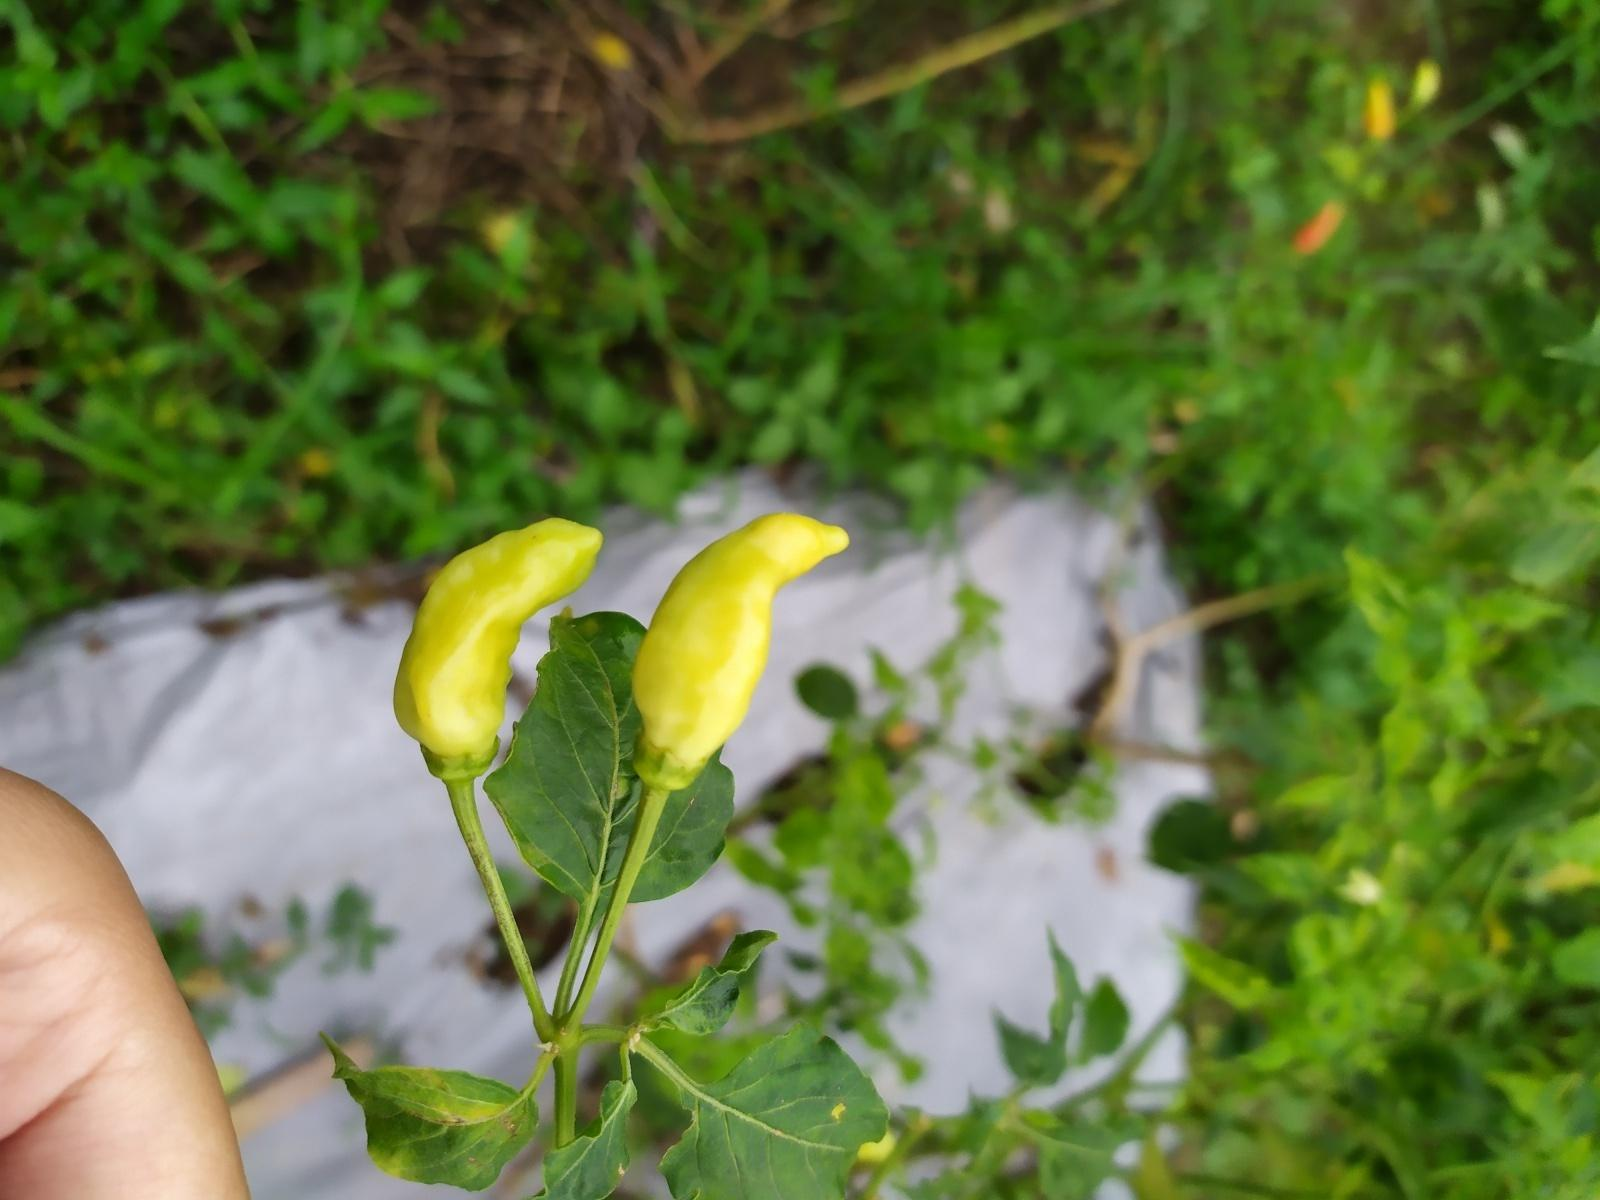cabai_normal: (631, 512, 849, 774), (391, 516, 605, 766)
